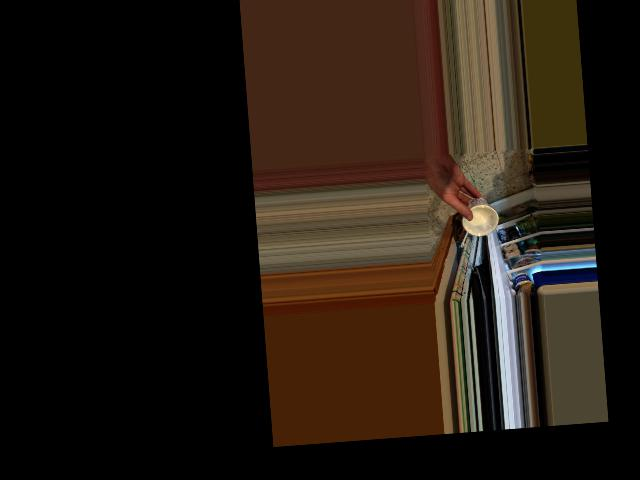cotage: (457, 194, 493, 237)
